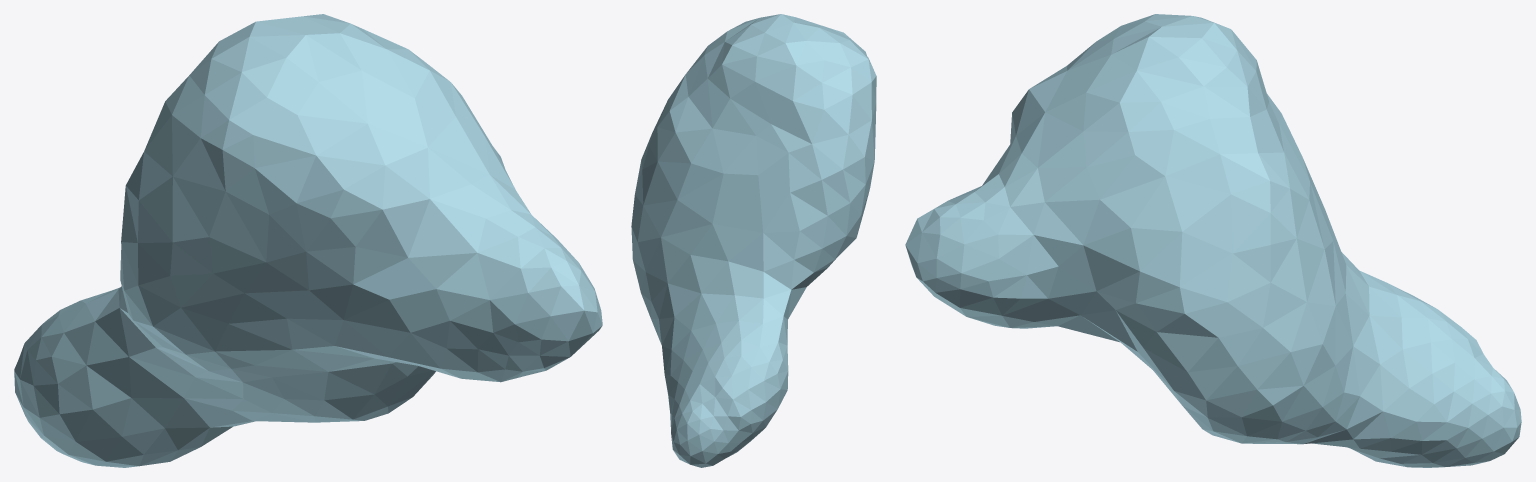
File: rightsurretumor.obj
3 renders of one model, left to right at view 1: azimuth 30°, elevation 25°; view 2: azimuth 150°, elevation 25°; view 3: azimuth 270°, elevation 25°, orthographic. The views are drawn at different scales.
Visible parts, largest first — view 1: grp1; view 2: grp1; view 3: grp1.
Boxes of the visible parts, x1,y1,x2,y2 form: grp1: [14, 14, 602, 467]; grp1: [631, 14, 876, 467]; grp1: [905, 14, 1521, 467].
Bounding box in the file's own units: 14.74 × 21.75 × 26.79.
